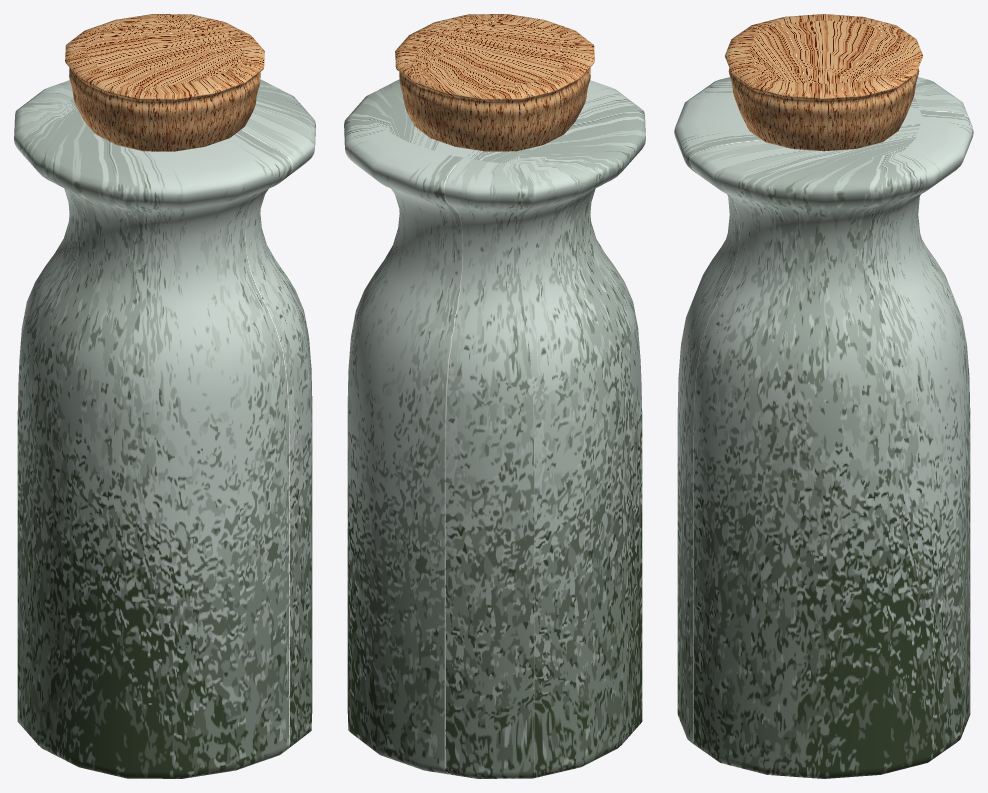
File: babytears.fbx
3 renders of one model, left to right at view 1: azimuth 30°, elevation 25°; view 2: azimuth 150°, elevation 25°; view 3: azimuth 270°, elevation 25°, orthographic.
Visible parts, largest first — view 1: polySurface2; view 2: polySurface2; view 3: polySurface2.
Boxes of the visible parts, x1,y1,x2,y2 form: polySurface2: (14, 14, 315, 778); polySurface2: (344, 14, 645, 778); polySurface2: (674, 14, 973, 778).
Size of the model in its own units: 2.9 by 7.22 by 2.9.
